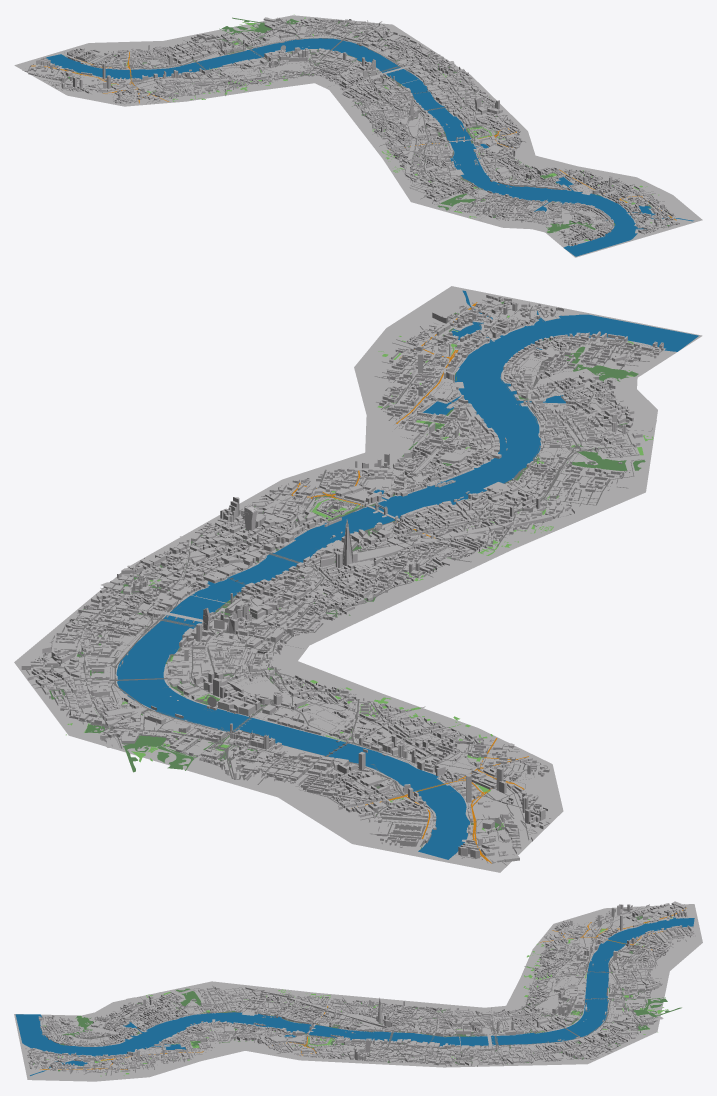
The model's file is CityScapeRemappedCompressed.glb.
The picture shows the model from 3 angles, top to bottom: view 1: azimuth 30°, elevation 25°; view 2: azimuth 150°, elevation 25°; view 3: azimuth 270°, elevation 25°; orthographic projection. The views are drawn at different scales.
Parts seen in each view (by area): view 1: City4; view 2: City4; view 3: City4.
Boxes of the visible parts, <box> form: City4: <box>14,14,702,257</box>; City4: <box>14,286,702,872</box>; City4: <box>14,901,702,1081</box>.
Bounding box in the file's own units: 35.53 × 2.4 × 57.94.
Materials: 1 (1 with a texture image).
